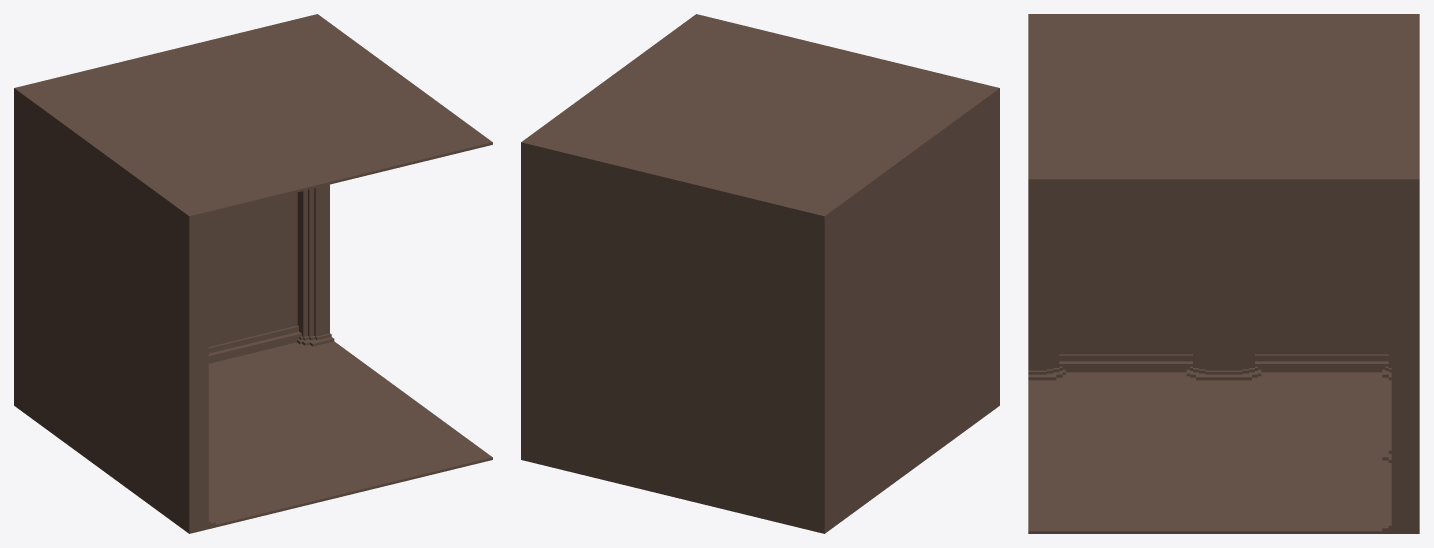
The model's file is cave-a5-a1-e5-e1.obj.
3 renders of one model, left to right at view 1: azimuth 30°, elevation 25°; view 2: azimuth 150°, elevation 25°; view 3: azimuth 270°, elevation 25°, orthographic. The views are drawn at different scales.
Bounding box in the file's own units: 126 × 126 × 126.
1 material, 1 textured.
